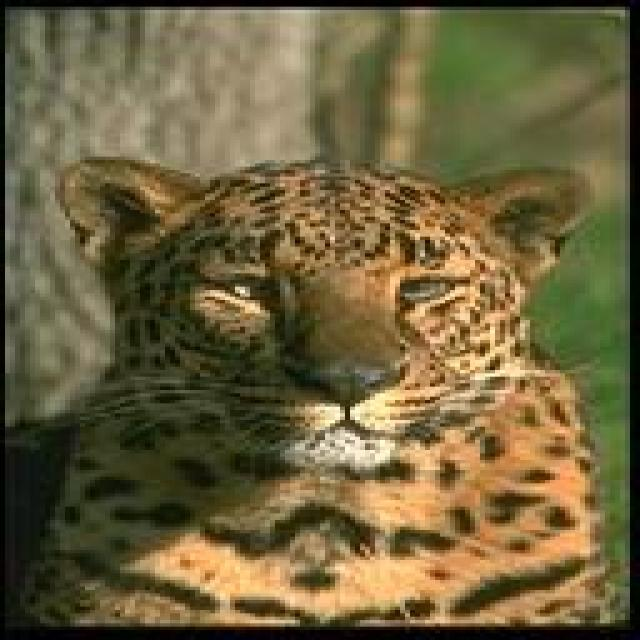Leopard: (24, 147, 612, 624)
